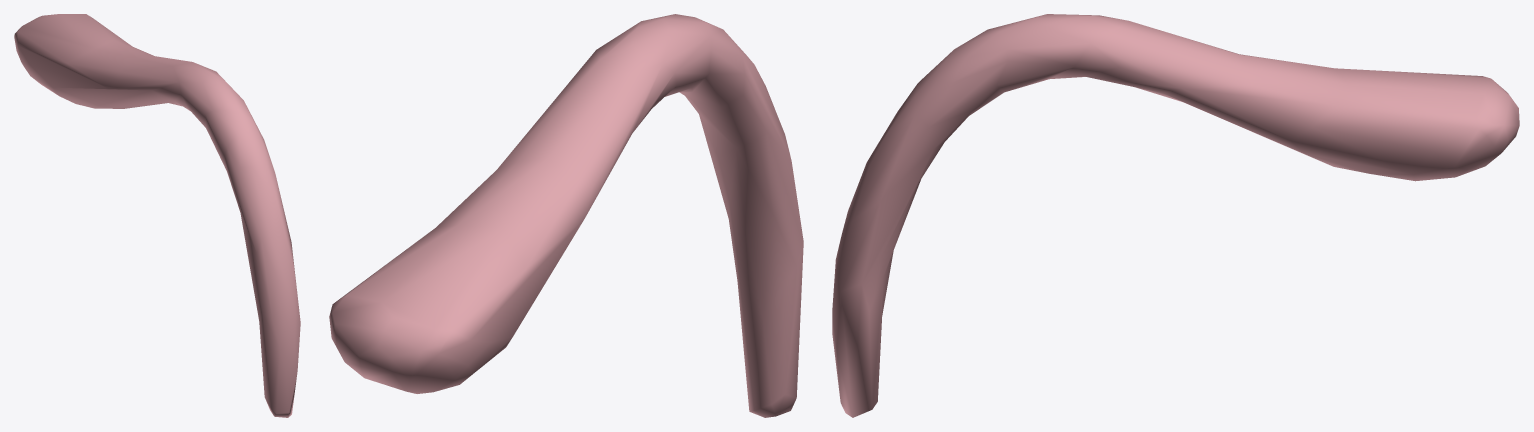
The model's file is visceras-corpus-spongiosum-of-penis.glb.
The picture shows the model from 3 angles, left to right: view 1: azimuth 30°, elevation 25°; view 2: azimuth 150°, elevation 25°; view 3: azimuth 270°, elevation 25°; orthographic projection. The views are drawn at different scales.
Parts seen in each view (by area): view 1: Corpus spongiosum of penis; view 2: Corpus spongiosum of penis; view 3: Corpus spongiosum of penis.
Part boxes in pixels (x1,y1,x2,y2): Corpus spongiosum of penis: (14, 14, 300, 417); Corpus spongiosum of penis: (329, 14, 803, 417); Corpus spongiosum of penis: (832, 14, 1519, 417).
Bounding box in the file's own units: 0.0213 × 0.0711 × 0.112.
